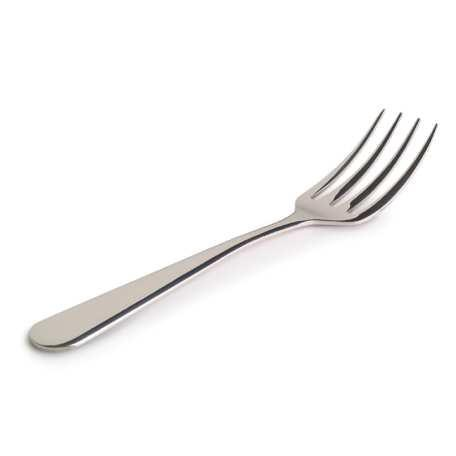Fork: (27, 108, 438, 352)
